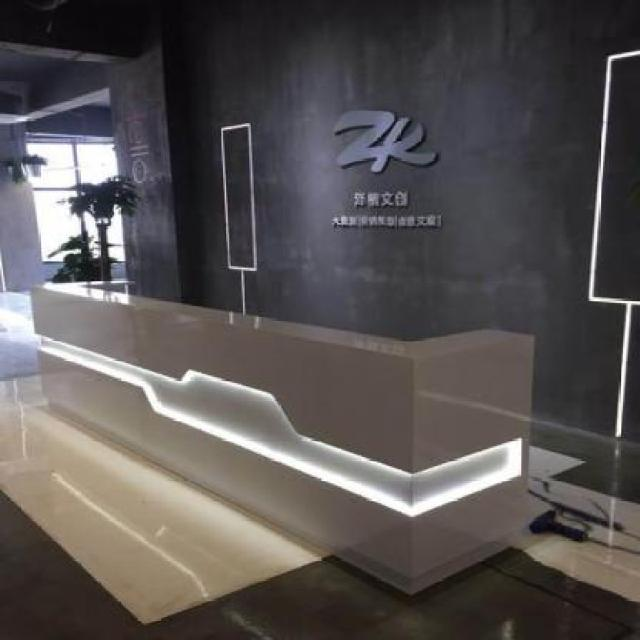frontdesk: (26, 260, 552, 604)
